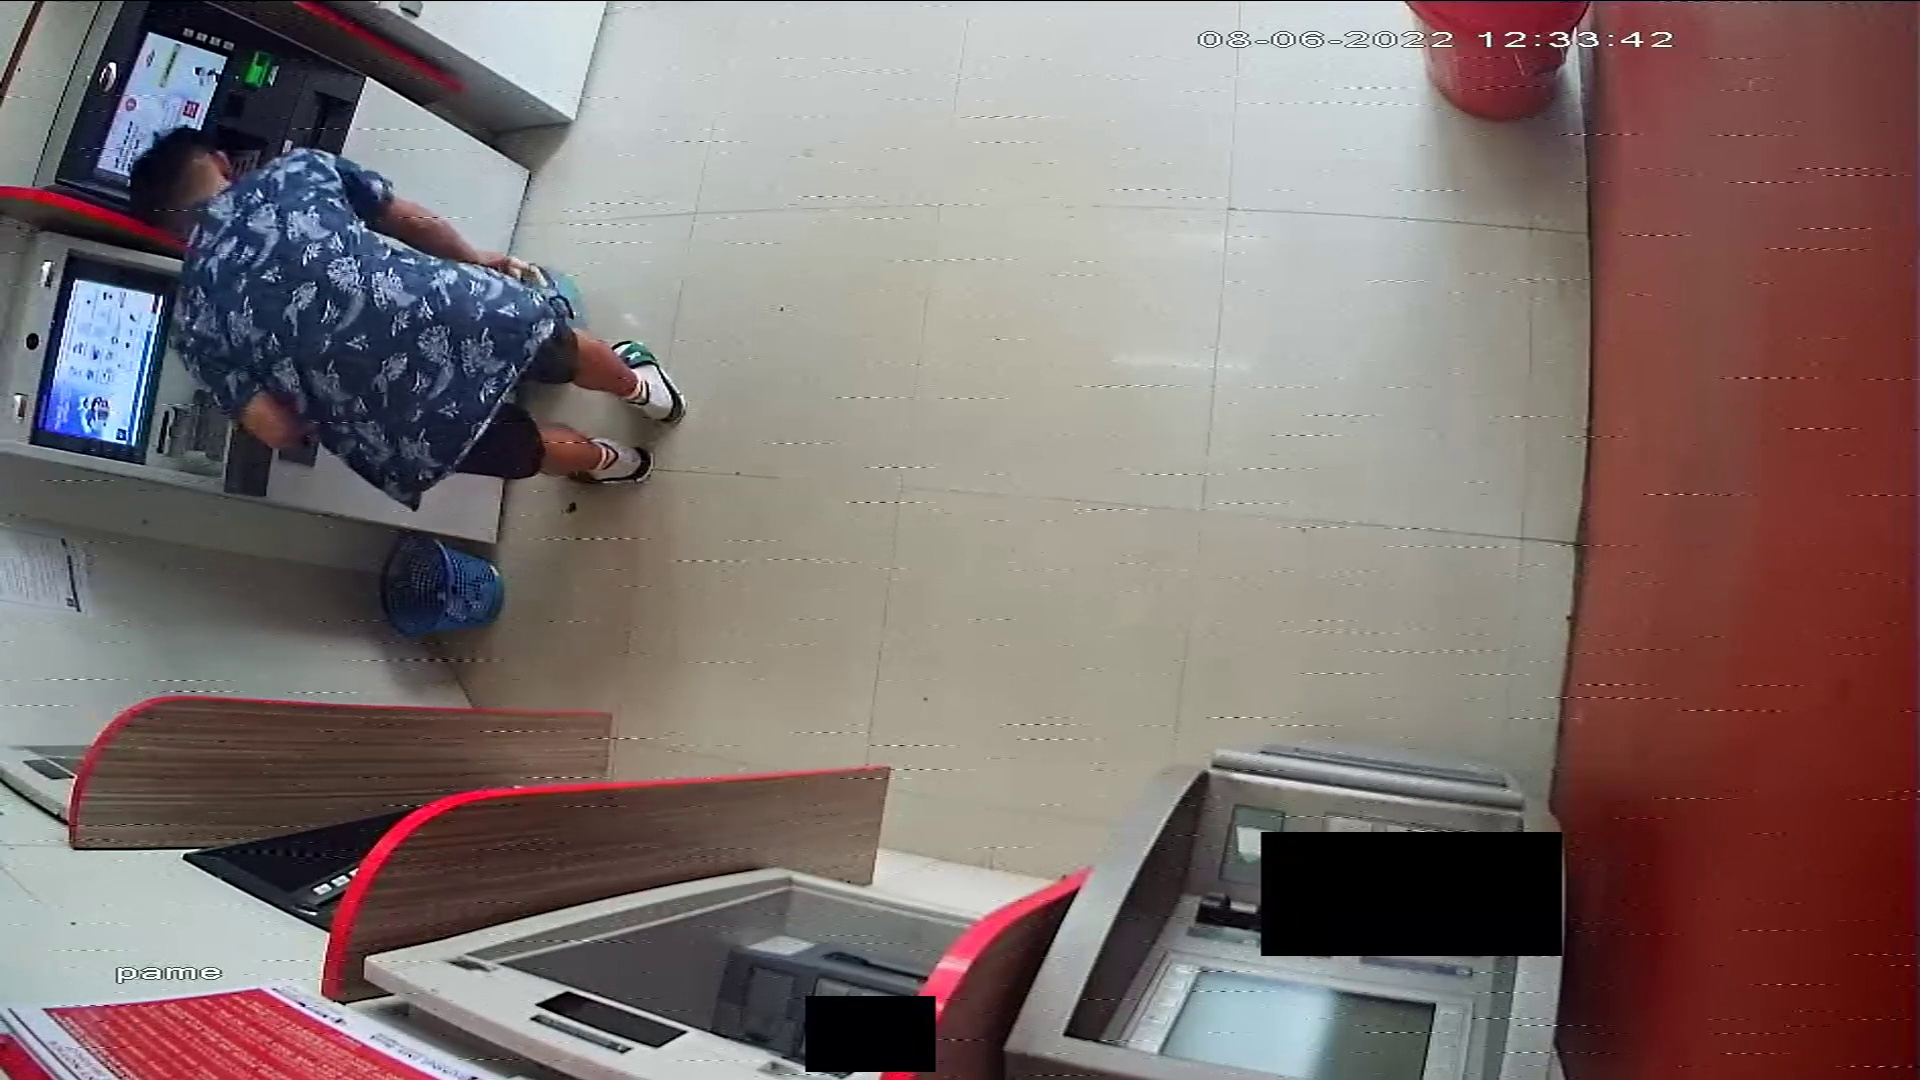person: (133, 124, 689, 492)
